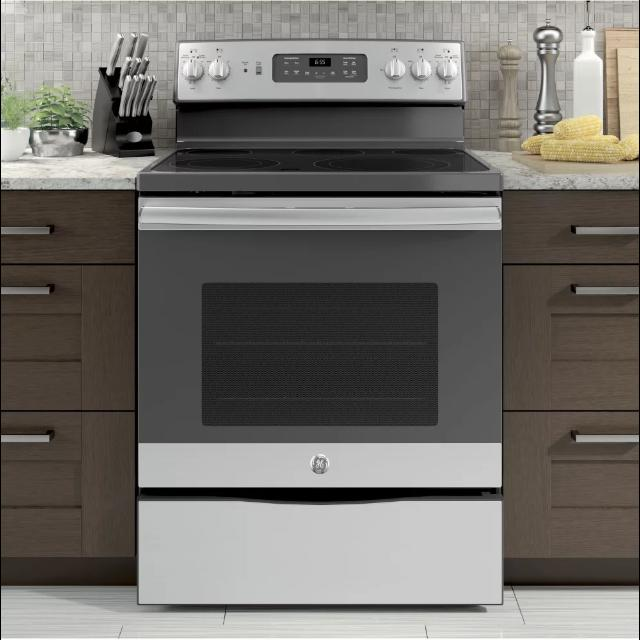Oven: (142, 38, 504, 614)
